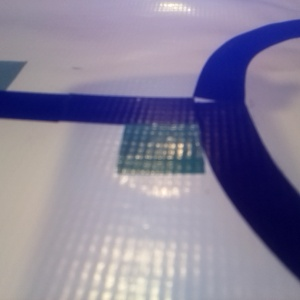top_left: (64, 8, 137, 27)
